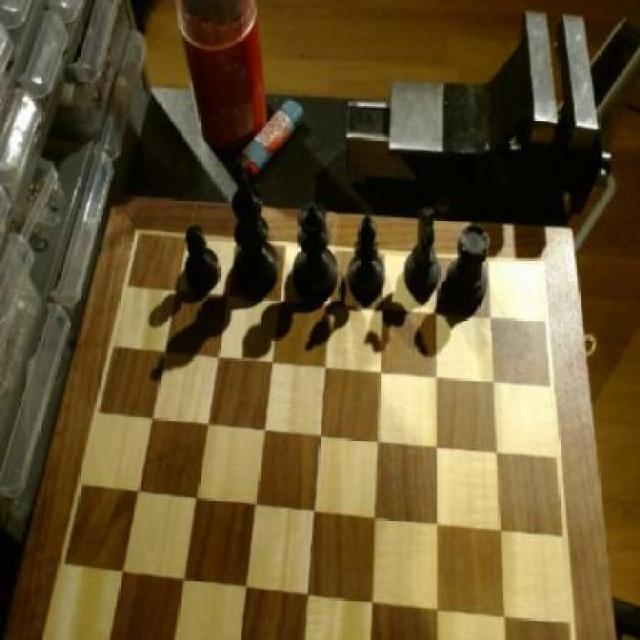bishop: (345, 203, 393, 302)
black-bishop: (222, 172, 286, 297)
black-king: (405, 204, 442, 304)
black-knight: (178, 222, 221, 294)
black-pawn: (290, 197, 342, 302)
black-queen: (446, 222, 496, 310)
